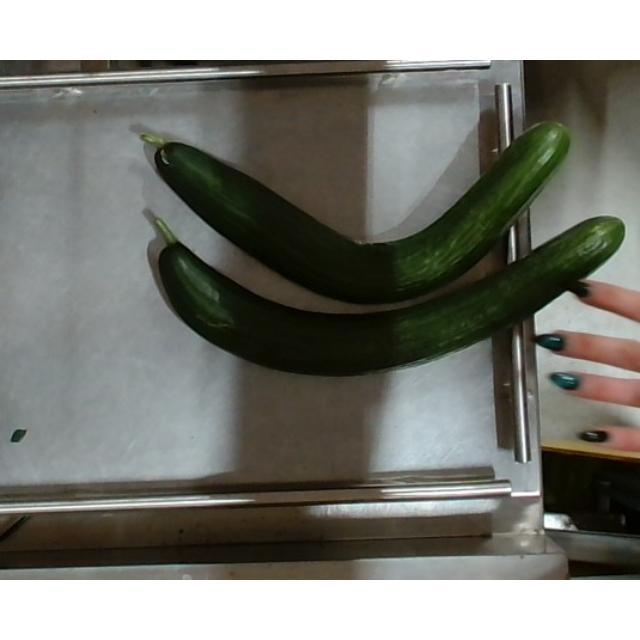cucumber: (142, 122, 570, 304), (150, 216, 626, 376)
